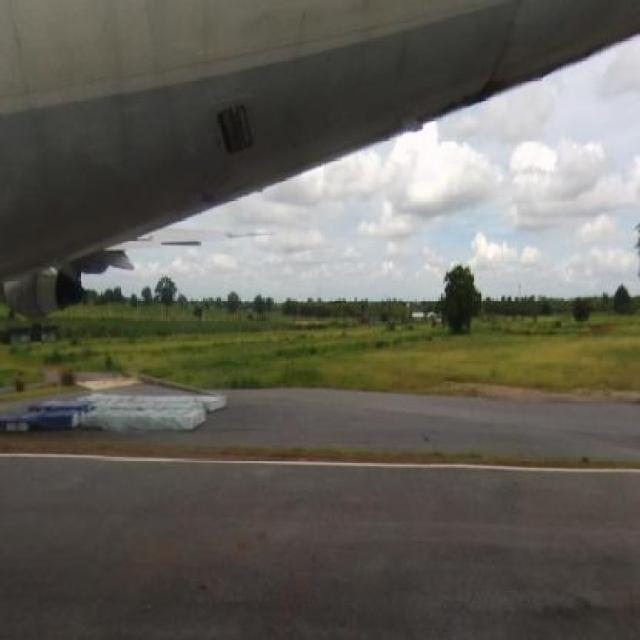Scartch: (182, 156, 236, 210)
